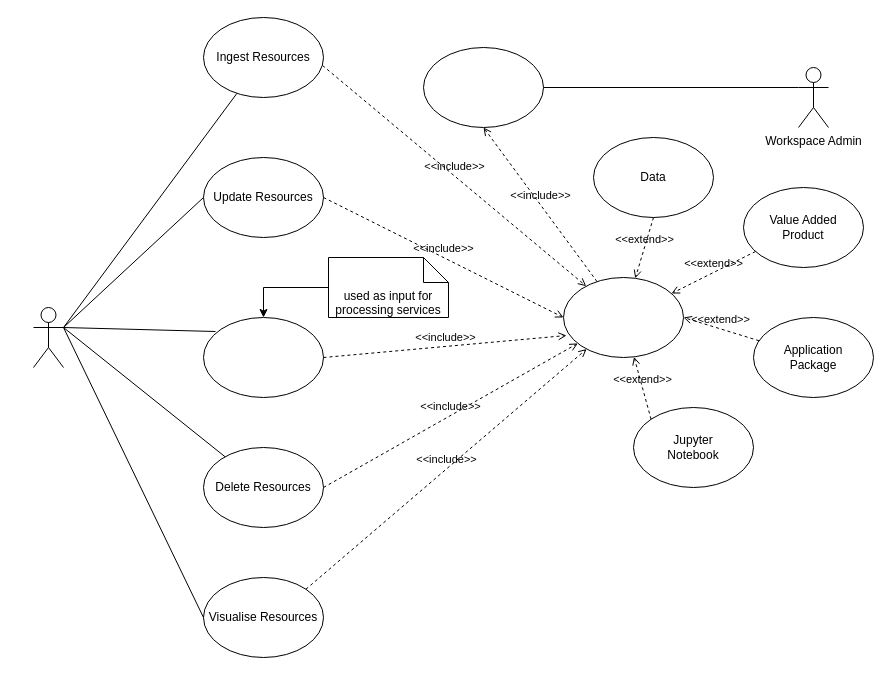
Image size: 891x675. Some labels were removed from this diagram. Here are the shapes that lost their labels. From the top down, the centre of each, then its label:
the point at 483,87: Authorisation
the point at 48,337: Workspace User
the point at 623,317: Resource
the point at 263,357: Select Resources
